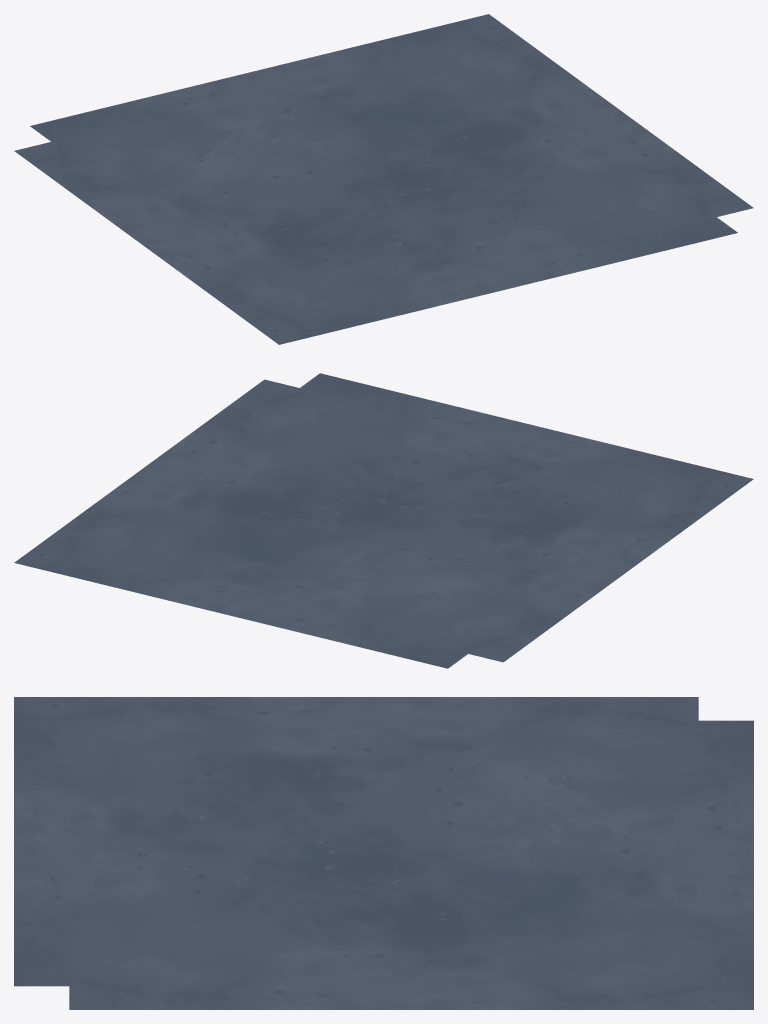
The model's file is dungeon_ground_corner2diagonal.FBX.
The picture shows the model from 3 angles, top to bottom: view 1: azimuth 30°, elevation 25°; view 2: azimuth 150°, elevation 25°; view 3: azimuth 270°, elevation 25°; orthographic projection. The views are drawn at different scales.
Visible parts, largest first — view 1: corner2diagonal; view 2: corner2diagonal; view 3: corner2diagonal.
Part boxes in pixels (x1,y1,x2,y2): corner2diagonal: (14, 14, 753, 344); corner2diagonal: (14, 373, 753, 668); corner2diagonal: (14, 697, 753, 1009).
Size of the model in its own units: 1000 by 3.05e-05 by 1000.
1 material, 1 textured.
